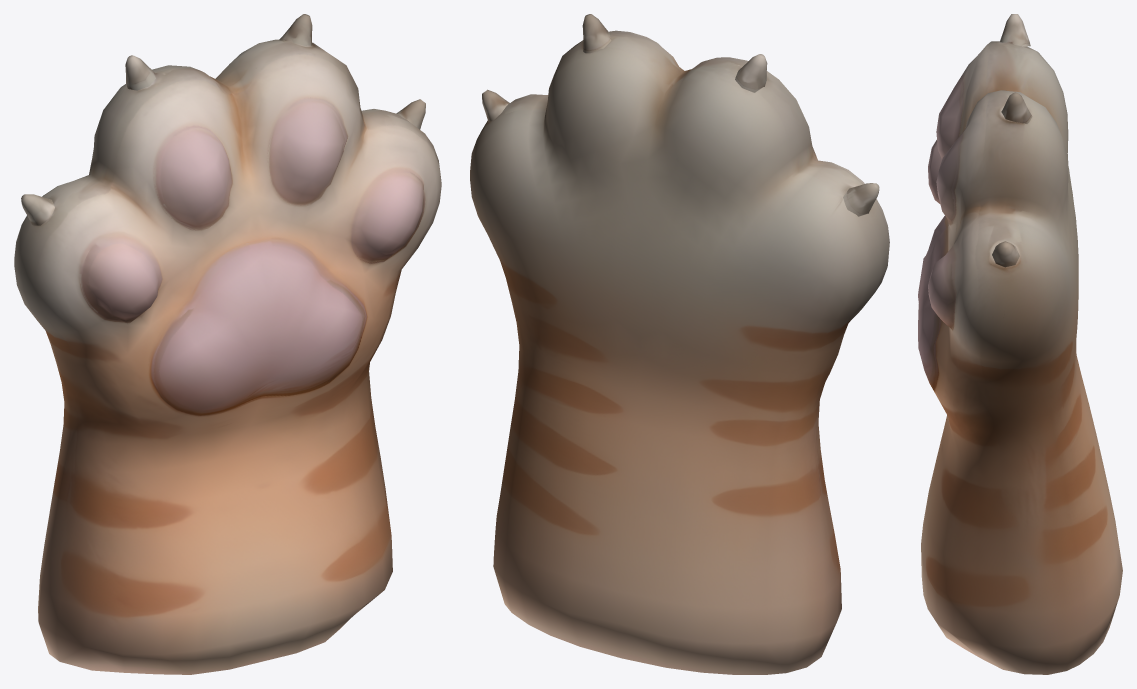
Rendered from rightcat.fbx.
3 views of the same model, side by side, from view 1: azimuth 30°, elevation 25°; view 2: azimuth 150°, elevation 25°; view 3: azimuth 270°, elevation 25° (orthographic). The views are drawn at different scales.
Visible parts, largest first — view 1: rightcat; view 2: rightcat; view 3: rightcat.
Part boxes in pixels (box(x1,y1,x2,y2)): rightcat: box(14, 14, 441, 674); rightcat: box(470, 14, 889, 674); rightcat: box(918, 14, 1122, 674).
Bounding box in the file's own units: 35.67 × 107 × 76.73.
